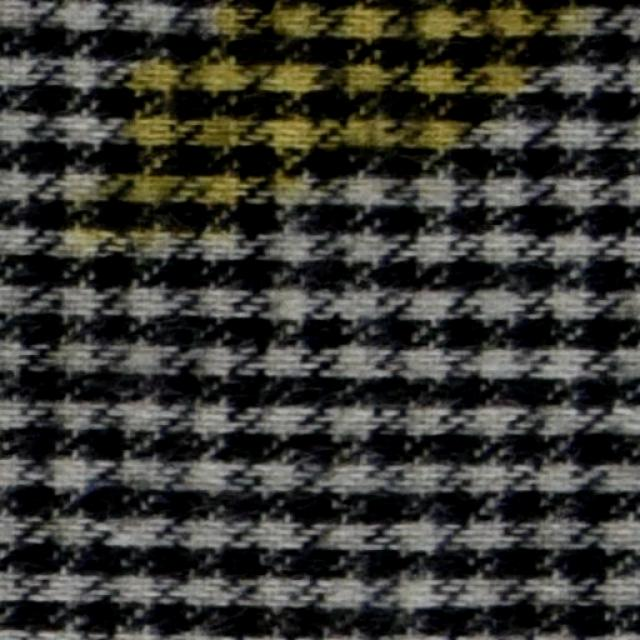Stain: (81, 1, 611, 272)
